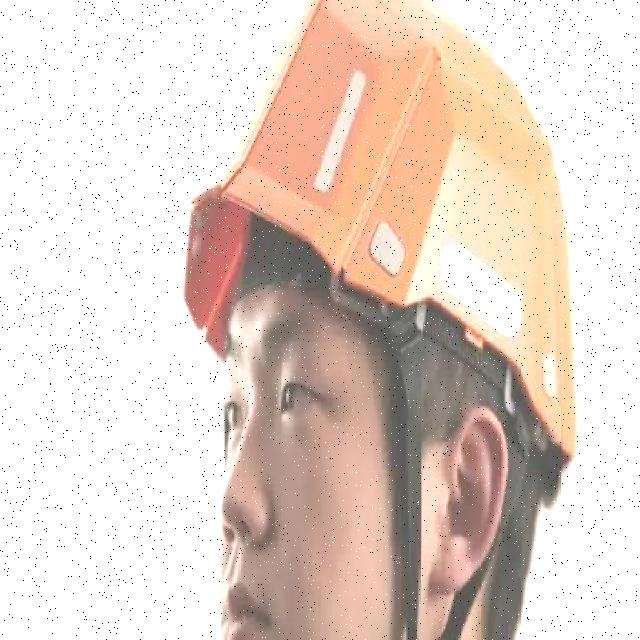Helmet: (179, 0, 578, 505)
